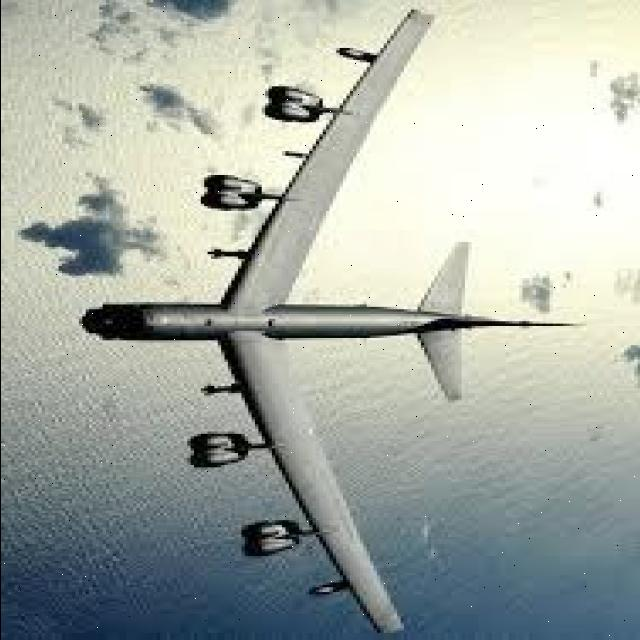B1: (66, 5, 614, 640)
